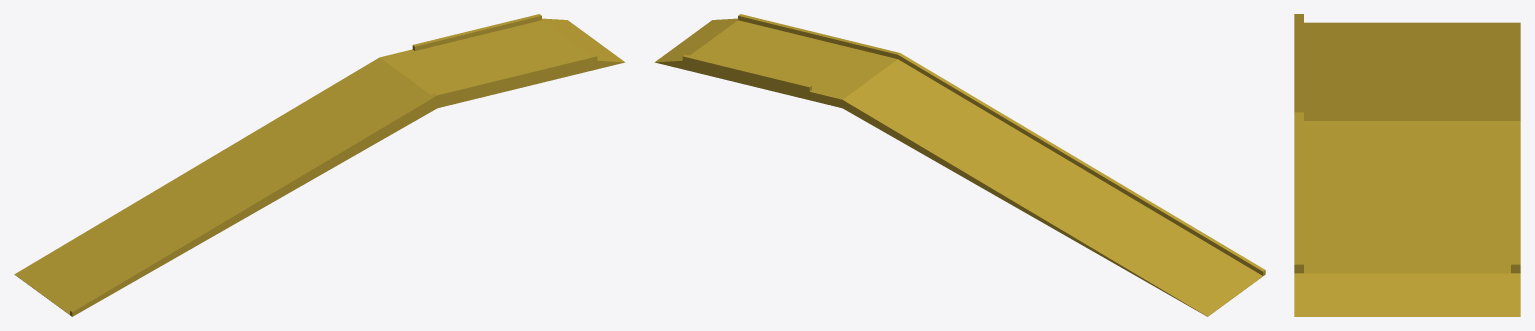
Rendered from rot7_wow.gltf.
The picture shows the model from 3 angles, left to right: view 1: azimuth 30°, elevation 25°; view 2: azimuth 150°, elevation 25°; view 3: azimuth 270°, elevation 25°; orthographic projection. The views are drawn at different scales.
Visible parts, largest first — view 1: rot7.wow; view 2: rot7.wow; view 3: rot7.wow.
Boxes of the visible parts, x1,y1,x2,y2 form: rot7.wow: (14, 14, 625, 316); rot7.wow: (654, 14, 1265, 316); rot7.wow: (1294, 14, 1520, 316).
Bounding box in the file's own units: 26.27 × 6.01 × 4.76.
